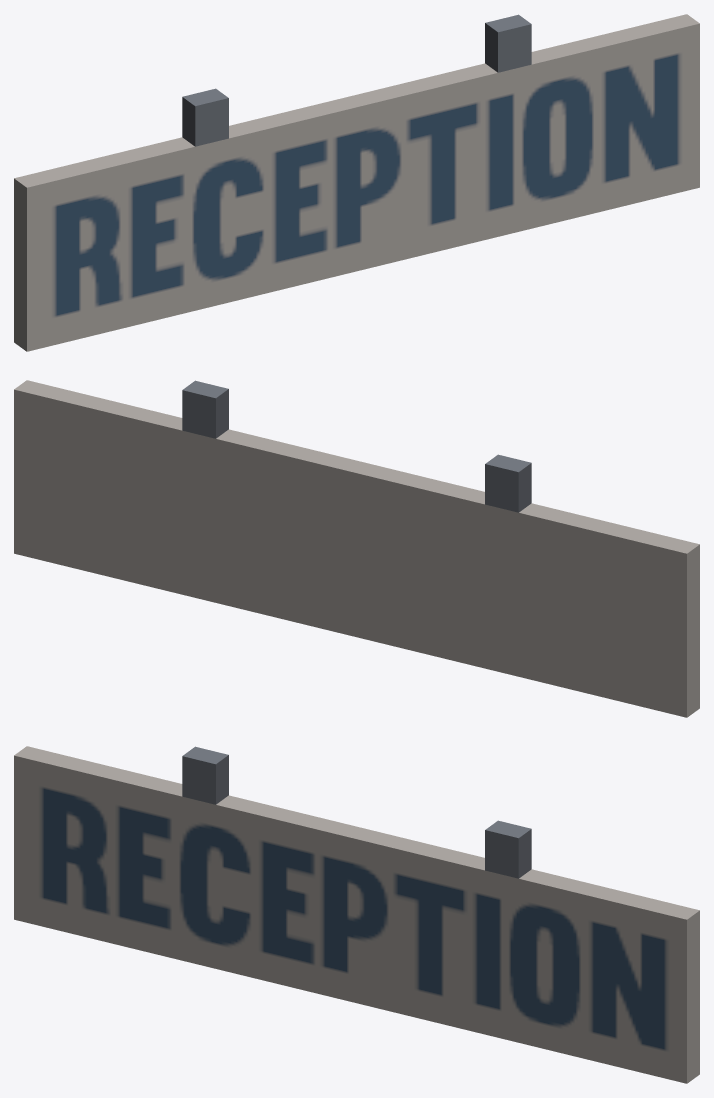
Rendered from AI_Env_ReceptionSign.fbx.
3 views of the same model, one above another, from view 1: azimuth 30°, elevation 25°; view 2: azimuth 150°, elevation 25°; view 3: azimuth 330°, elevation 25° (orthographic).
Visible parts, largest first — view 1: AI_Env_ReceptionSign; view 2: AI_Env_ReceptionSign; view 3: AI_Env_ReceptionSign.
Part boxes in pixels (bbox=[...]): AI_Env_ReceptionSign: bbox=[14, 14, 699, 351]; AI_Env_ReceptionSign: bbox=[14, 380, 699, 717]; AI_Env_ReceptionSign: bbox=[14, 746, 699, 1083].
Bounding box in the file's own units: 3.14 × 0.9109 × 0.1043.
